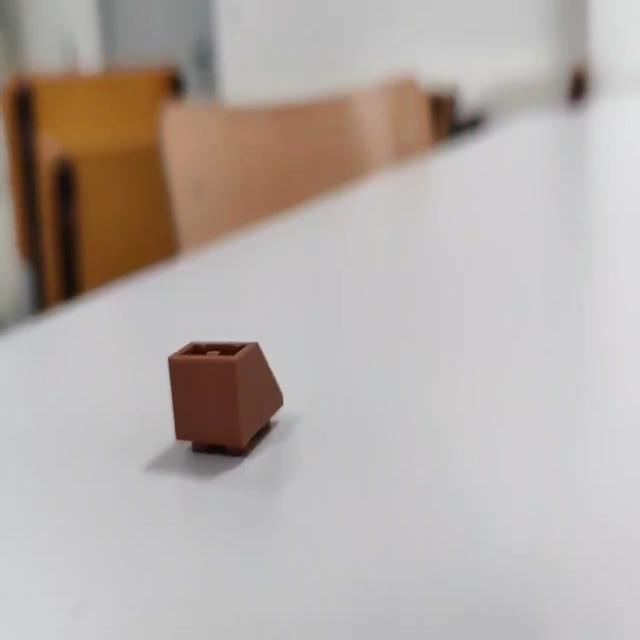X2x2x1: (166, 337, 284, 456)
